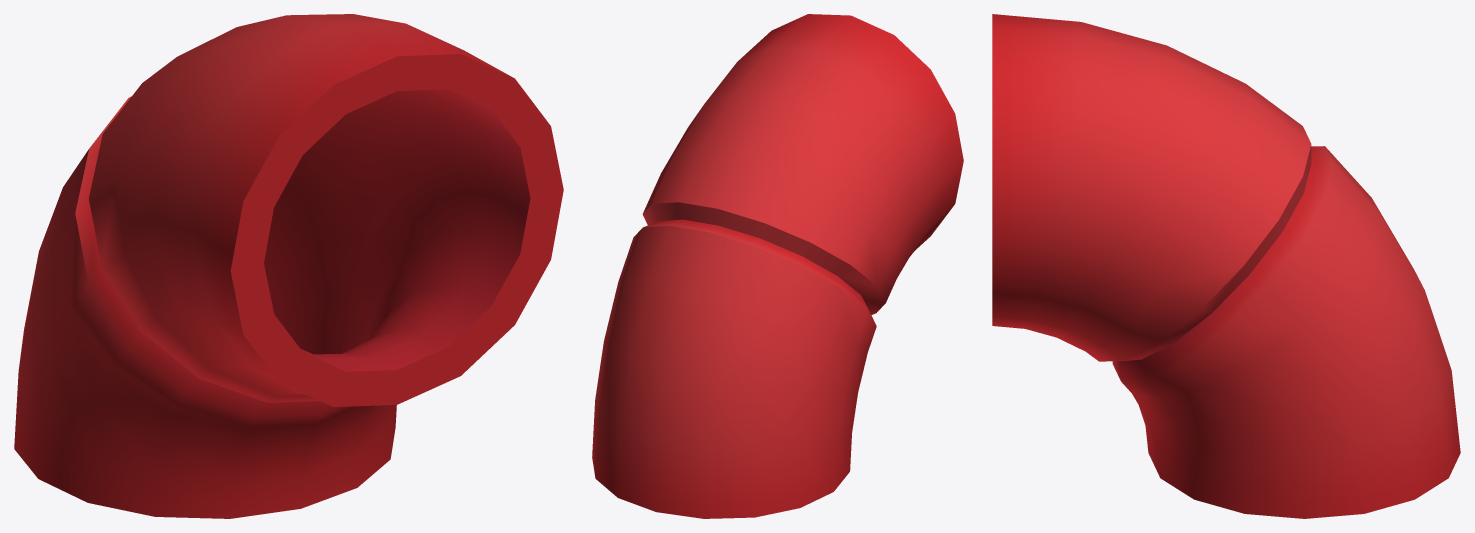
File: pipe_90_B_red.glb
3 renders of one model, left to right at view 1: azimuth 30°, elevation 25°; view 2: azimuth 150°, elevation 25°; view 3: azimuth 270°, elevation 25°, orthographic. The views are drawn at different scales.
Parts seen in each view (by area): view 1: pipe_90_B_red; view 2: pipe_90_B_red; view 3: pipe_90_B_red.
Boxes of the visible parts, x1,y1,x2,y2 form: pipe_90_B_red: (14,14,563,518); pipe_90_B_red: (592,14,963,518); pipe_90_B_red: (992,14,1460,518).
Size of the model in its own units: 2 by 3 by 3.
1 material, 1 textured.
